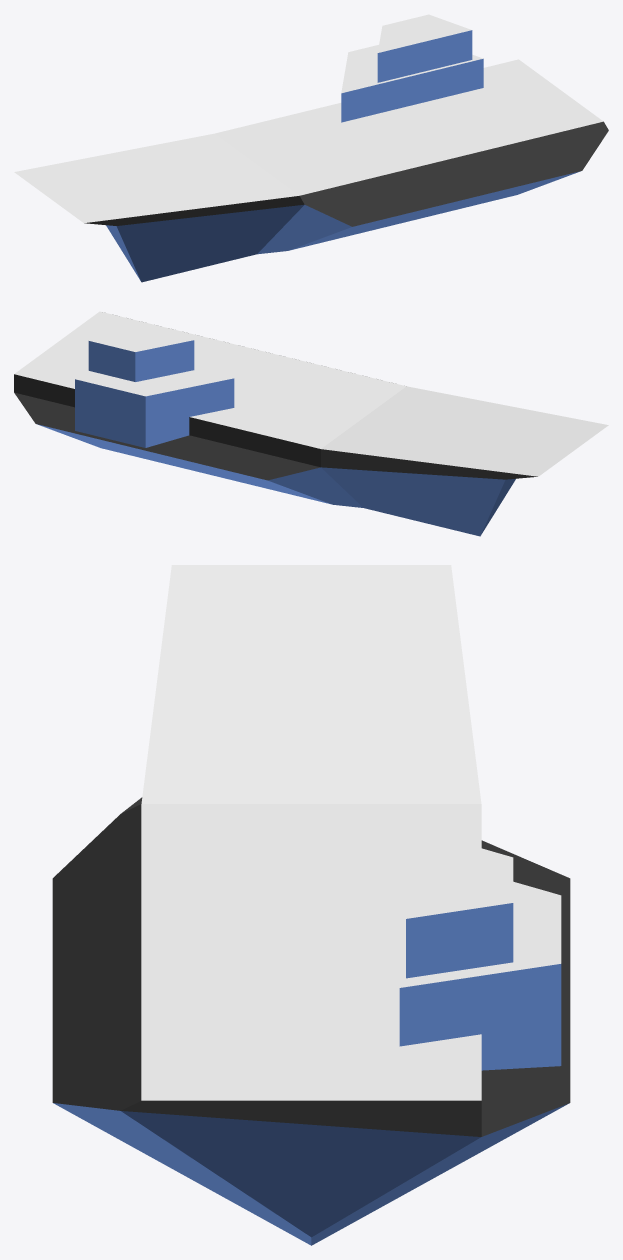
The model's file is Ship.fbx.
3 views of the same model, one above another, from view 1: azimuth 30°, elevation 25°; view 2: azimuth 150°, elevation 25°; view 3: azimuth 270°, elevation 25° (orthographic). The views are drawn at different scales.
Visible parts, largest first — view 1: Plane; view 2: Plane; view 3: Plane.
Boxes of the visible parts, left/top/right/bottom form: Plane: left=14, top=14, right=608, bottom=282; Plane: left=14, top=311, right=608, bottom=536; Plane: left=52, top=565, right=570, bottom=1245.
Size of the model in its own units: 696 by 198 by 305.
